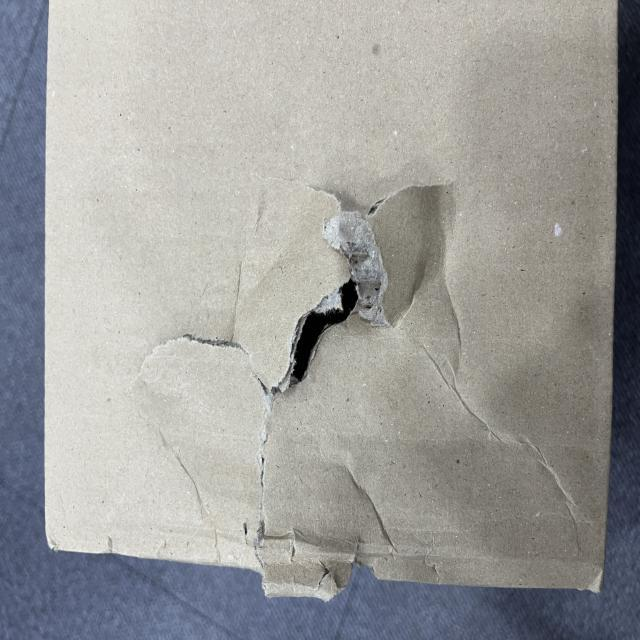hole: (258, 271, 375, 387)
